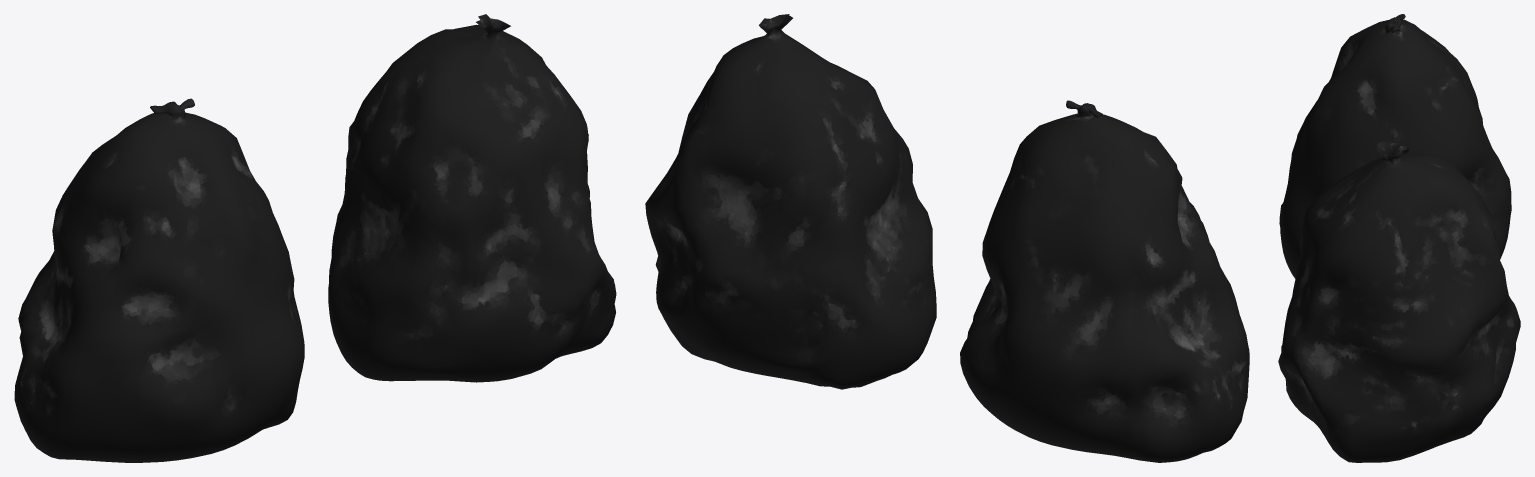
File: trashmodelsource.fbx
3 renders of one model, left to right at view 1: azimuth 30°, elevation 25°; view 2: azimuth 150°, elevation 25°; view 3: azimuth 270°, elevation 25°, orthographic. The views are drawn at different scales.
Visible parts, largest first — view 1: SM_binBag1#, SM_binBag2; view 2: SM_binBag1#, SM_binBag2; view 3: SM_binBag1#, SM_binBag2.
Part boxes in pixels (left/top/right/bottom): SM_binBag1#: left=328, top=14, right=616, bottom=382; SM_binBag2: left=14, top=98, right=304, bottom=462; SM_binBag1#: left=645, top=14, right=936, bottom=389; SM_binBag2: left=960, top=100, right=1249, bottom=462; SM_binBag1#: left=1278, top=141, right=1520, bottom=462; SM_binBag2: left=1279, top=14, right=1511, bottom=278.
Bounding box in the file's own units: 40017 × 22941 × 17174.
Materials: 1 (1 with a texture image).
